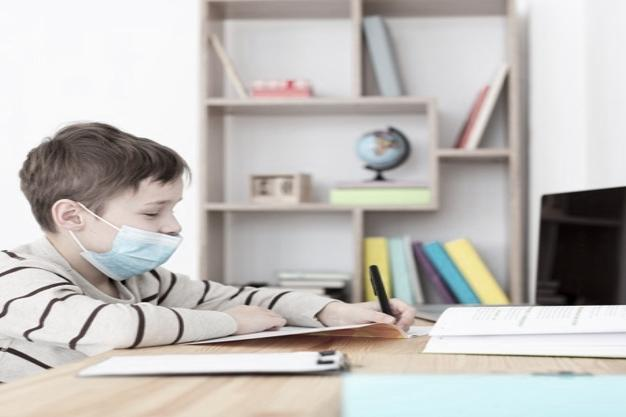mask_weared_incorrect: (23, 119, 189, 283)
